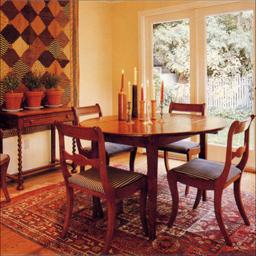Matera: (41, 64, 70, 108), (22, 69, 44, 110), (4, 70, 25, 111)
Puerta: (142, 16, 255, 167)
